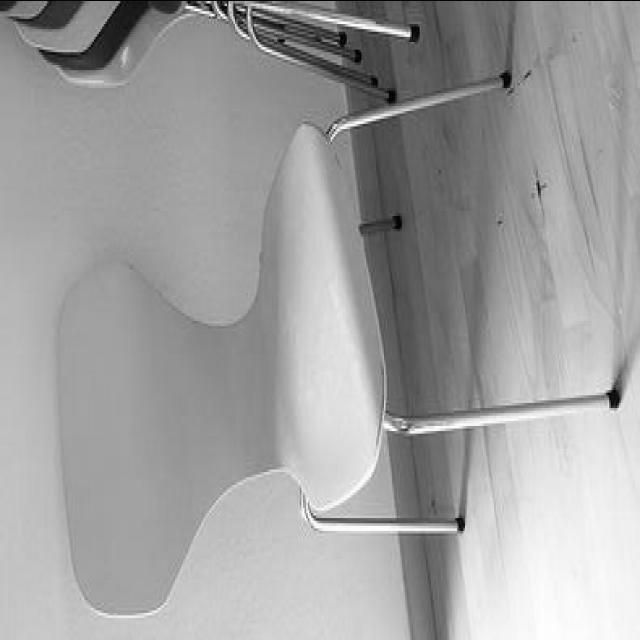chair: (58, 62, 622, 626)
